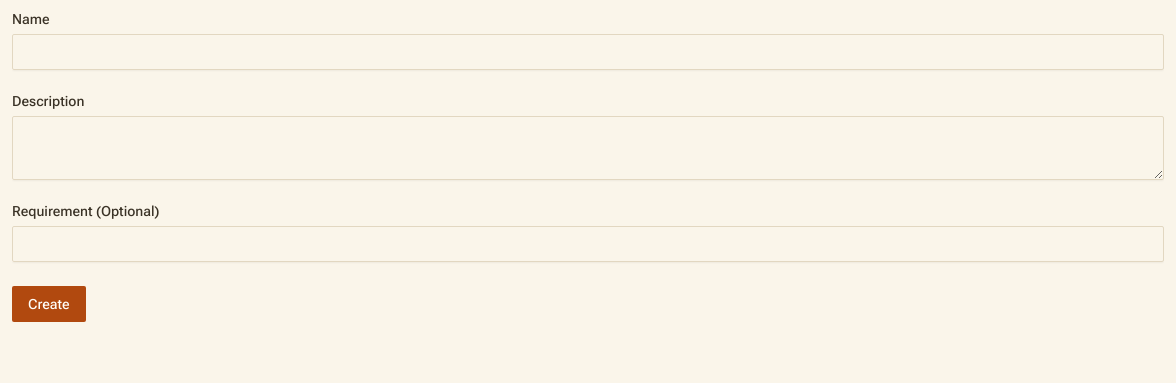
Test: background builder editing=false › retains the draft with one actionable error and no automatic retry/navigation
This screenshot has width=1176, height=383.
In the field labelled "Name": x=588, y=52 x1=12 y1=34 x2=1164 y2=70, type " Stargazer "
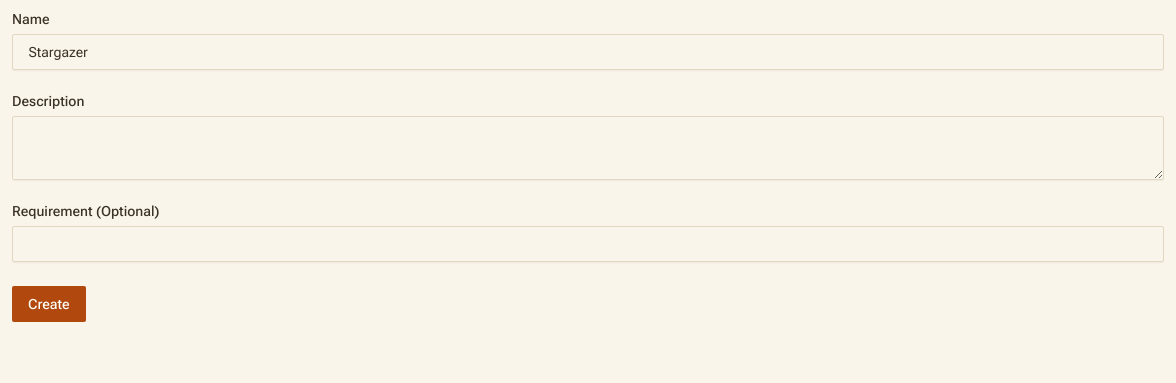
In the text box labelled "Description": x=588, y=148 x1=12 y1=116 x2=1164 y2=180, type " Read the stars. "
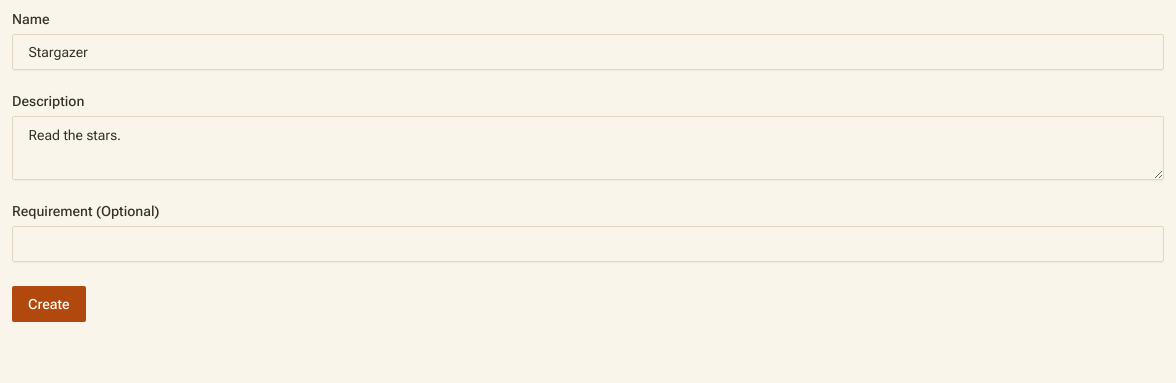
In the field labelled "Requirement (Optional)": x=588, y=244 x1=12 y1=226 x2=1164 y2=262, type " Wits 2 "
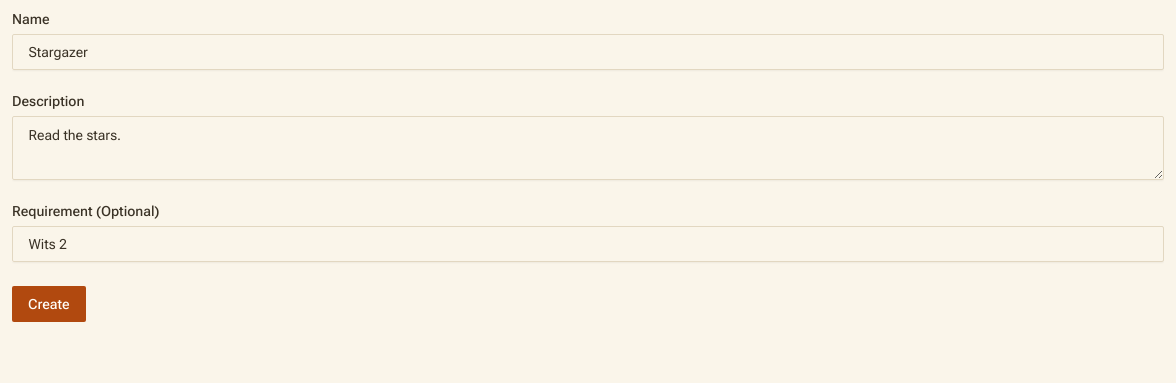
Click the button "Create": x=49, y=304 x1=12 y1=286 x2=86 y2=322
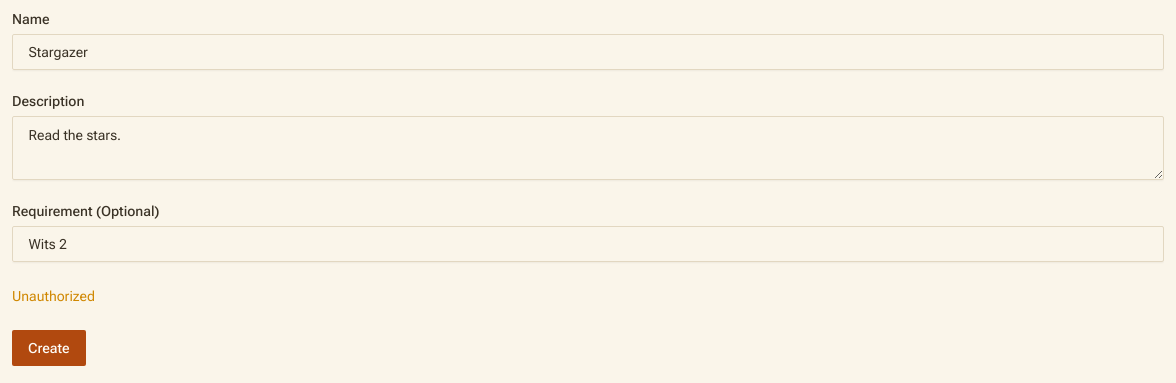
expect the button "Create" is enabled: met, box x1=12 y1=330 x2=86 y2=366
expect the message reads "Unauthorized": met, box x1=12 y1=288 x2=95 y2=304
